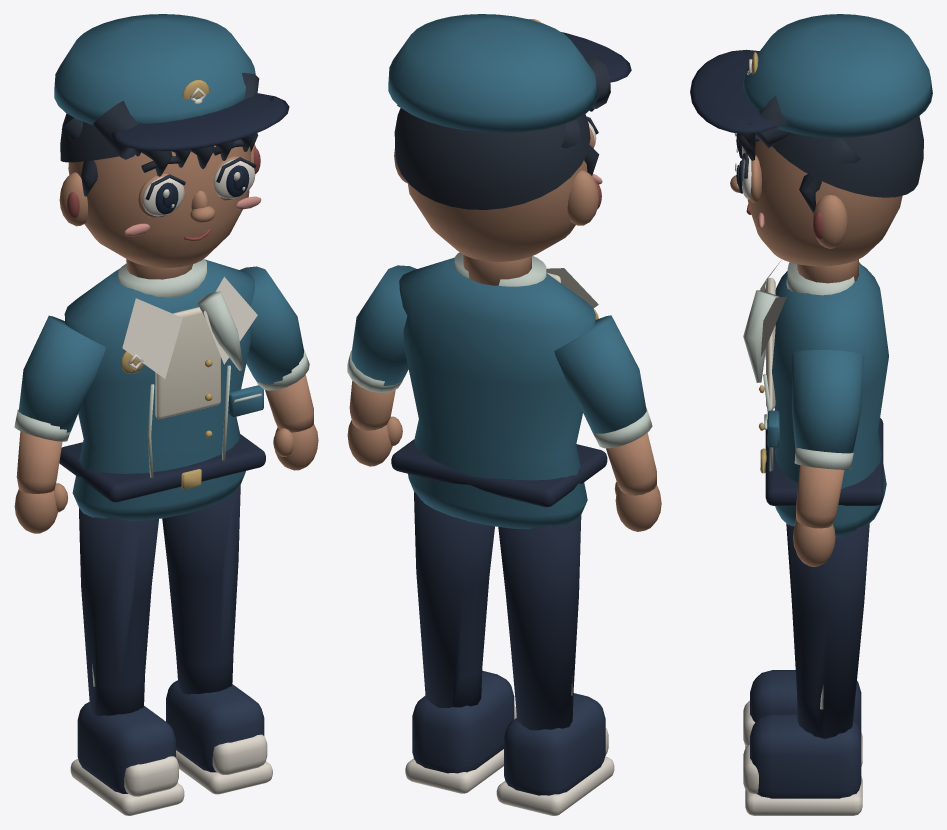
File: xingyin-characters-v1__blocky_character_e.glb
3 renders of one model, left to right at view 1: azimuth 30°, elevation 25°; view 2: azimuth 150°, elevation 25°; view 3: azimuth 270°, elevation 25°, orthographic. The views are drawn at different scales.
Parts seen in each view (by area): view 1: figure.004; view 2: figure.004; view 3: figure.004.
Part boxes in pixels (x1,y1,x2,y2): figure.004: (14, 14, 318, 815); figure.004: (347, 14, 661, 815); figure.004: (690, 14, 932, 815).
Bounding box in the file's own units: 1.06 × 2.5 × 0.7393.
